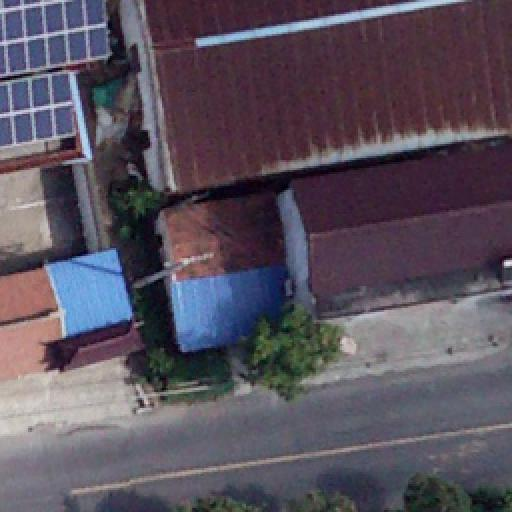solar-panel: (0, 0, 139, 71), (0, 74, 107, 165)
